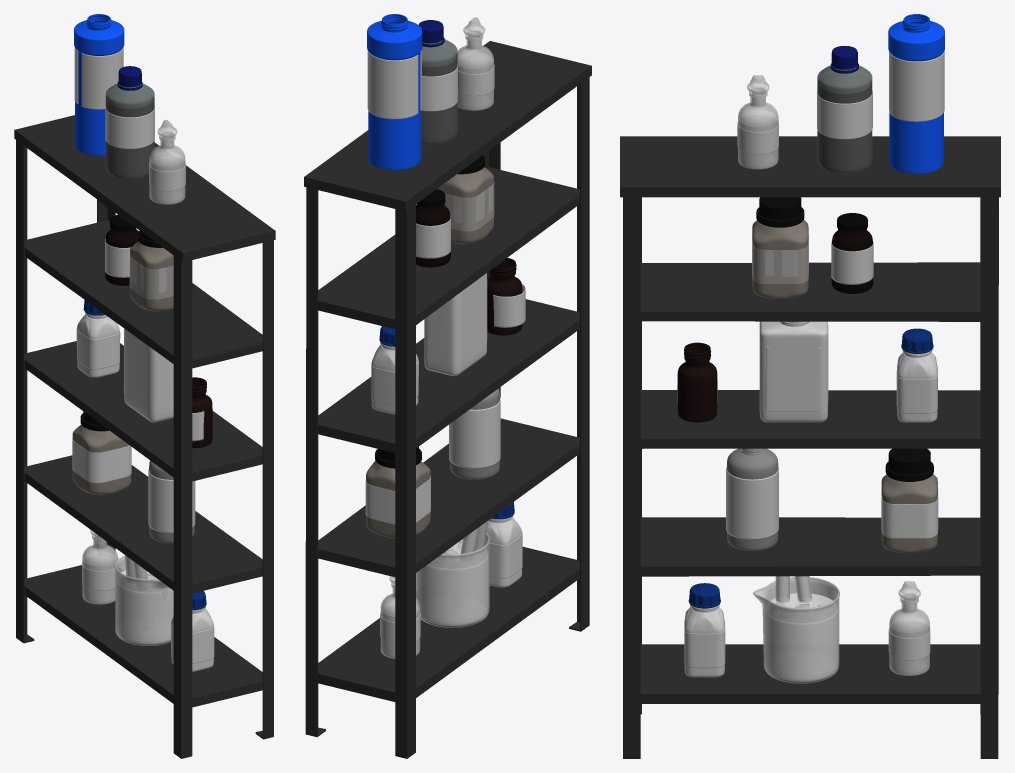
Rendered from estanteProductos.obj.
3 views of the same model, side by side, from view 1: azimuth 30°, elevation 25°; view 2: azimuth 150°, elevation 25°; view 3: azimuth 270°, elevation 25° (orthographic). The views are drawn at different scales.
Parts seen in each view (by area): view 1: Shelf, Icewater, Cylinder.008, Copper_Sulphate_btl, Ferric_Chloride_cover.001, Naphtholin_Btl.001, Copper_Sulphate_Cover, Naphtholin_Cover, Ferric_Chloride_cover.002, Naphtholin_Btl, Ferric_Chloride_cover, NaOH_Cover (+16 smaller); view 2: Shelf, Icewater, Copper_Sulphate_btl, Cylinder.008, Copper_Sulphate_Cover, Naphtholin_Btl.001, NaOH_Cover, Ferric_Chloride_cover.001, Alcohol_Btl.003, Naphtholin_Cover.001, Naphtholin_Cover, Naphtholin_Btl (+16 smaller); view 3: Shelf, Icewater, Copper_Sulphate_btl, Naphtholin_Btl.001, Cylinder.004, Ferric_Chloride_cover.001, Copper_Sulphate_Cover, Cylinder.008, NaOH_Cover, Sodium_NitroPrusside_btl, Ferric_Chloride_cover.002, Naphtholin_Btl (+20 smaller).
Part boxes in pixels (x1,y1,x2,y2): Shelf: [14, 115, 275, 758]; Icewater: [114, 555, 173, 645]; Cylinder.008: [124, 328, 173, 422]; Copper_Sulphate_btl: [74, 14, 124, 155]; Ferric_Chloride_cover.001: [105, 83, 154, 178]; Naphtholin_Btl.001: [130, 241, 173, 311]; Copper_Sulphate_Cover: [74, 47, 123, 109]; Naphtholin_Cover: [72, 438, 131, 482]; Ferric_Chloride_cover.002: [106, 97, 153, 178]; Naphtholin_Btl: [72, 425, 131, 494]; Ferric_Chloride_cover: [105, 106, 154, 148]; NaOH_Cover: [148, 469, 195, 533]; Shelf: [304, 41, 591, 758]; Icewater: [416, 520, 489, 627]; Copper_Sulphate_btl: [367, 14, 422, 169]; Cylinder.008: [424, 273, 487, 376]; Copper_Sulphate_Cover: [367, 50, 421, 119]; Naphtholin_Btl.001: [437, 167, 493, 244]; NaOH_Cover: [449, 397, 500, 468]; Ferric_Chloride_cover.001: [421, 39, 457, 144]; Alcohol_Btl.003: [457, 31, 493, 110]; Naphtholin_Cover.001: [444, 182, 494, 231]; Naphtholin_Cover: [365, 476, 430, 524]; Naphtholin_Btl: [366, 461, 430, 538]; Shelf: [620, 136, 1000, 758]; Icewater: [753, 576, 839, 683]; Copper_Sulphate_btl: [888, 14, 944, 173]; Naphtholin_Btl.001: [752, 220, 808, 298]; Cylinder.004: [765, 347, 821, 411]; Ferric_Chloride_cover.001: [817, 65, 872, 173]; Copper_Sulphate_Cover: [889, 51, 944, 121]; Cylinder.008: [759, 321, 828, 422]; NaOH_Cover: [726, 466, 778, 539]; Sodium_NitroPrusside_btl: [677, 342, 717, 422]; Ferric_Chloride_cover.002: [818, 81, 871, 172]; Naphtholin_Btl: [881, 474, 937, 553].
Bounding box in the file's own units: 3.36 × 21.97 × 10.61.
